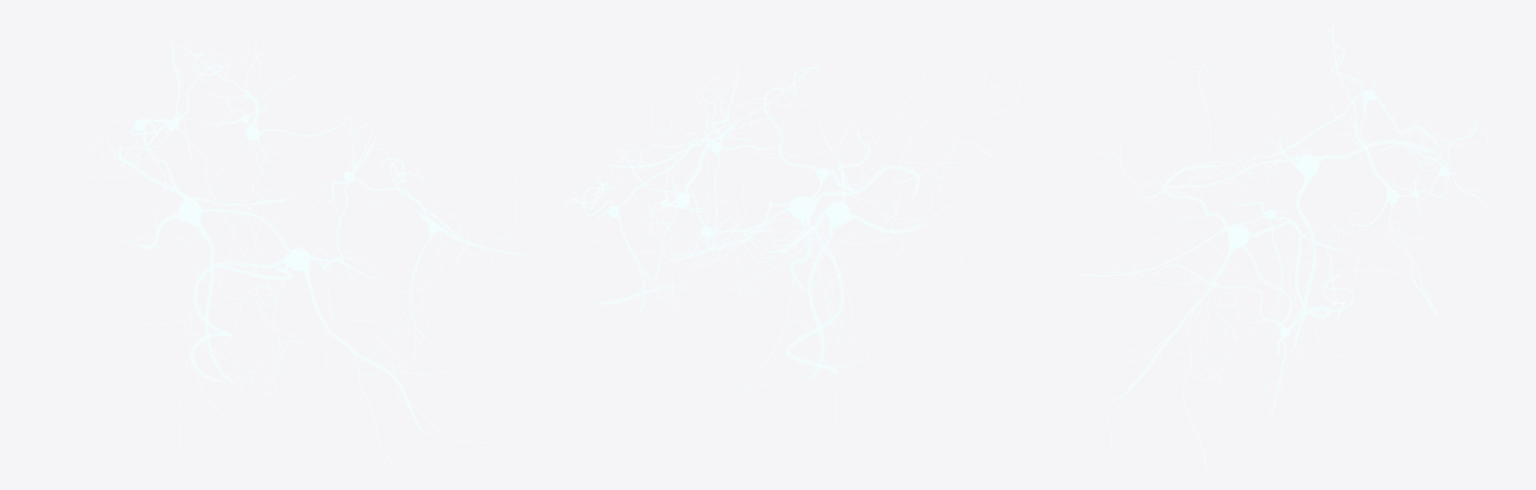
Rendered from neuron.glb.
3 renders of one model, left to right at view 1: azimuth 30°, elevation 25°; view 2: azimuth 150°, elevation 25°; view 3: azimuth 270°, elevation 25°, orthographic. The views are drawn at different scales.
Visible parts, largest first — view 1: Toon_geo_Toon_0.005, Toon_geo_Toon_0.001, Toon_geo_Toon_0.002, Toon_geo_Toon_0.006, Toon_geo_Toon_0.003, Toon_geo, Toon_geo_Toon_0.004; view 2: Toon_geo_Toon_0.005, Toon_geo_Toon_0.001, Toon_geo_Toon_0.002, Toon_geo_Toon_0.006, Toon_geo_Toon_0.003, Toon_geo_Toon_0.004, Toon_geo; view 3: Toon_geo_Toon_0.005, Toon_geo_Toon_0.001, Toon_geo_Toon_0.006, Toon_geo_Toon_0.002, Toon_geo_Toon_0.003, Toon_geo, Toon_geo_Toon_0.004.
Boxes of the visible parts, box(x1,y1,x2,y2) form: Toon_geo_Toon_0.005: box(83, 24, 532, 435); Toon_geo_Toon_0.001: box(18, 18, 523, 474); Toon_geo_Toon_0.002: box(164, 123, 528, 406); Toon_geo_Toon_0.006: box(131, 52, 472, 343); Toon_geo_Toon_0.003: box(134, 47, 365, 222); Toon_geo: box(81, 117, 517, 325); Toon_geo_Toon_0.004: box(206, 52, 303, 248); Toon_geo_Toon_0.005: box(612, 72, 926, 379); Toon_geo_Toon_0.001: box(598, 44, 1020, 473); Toon_geo_Toon_0.002: box(564, 43, 852, 322); Toon_geo_Toon_0.006: box(564, 67, 854, 313); Toon_geo_Toon_0.003: box(593, 63, 849, 256); Toon_geo_Toon_0.004: box(596, 93, 778, 308); Toon_geo: box(705, 14, 998, 268); Toon_geo_Toon_0.005: box(1074, 83, 1518, 400); Toon_geo_Toon_0.001: box(1063, 17, 1498, 474); Toon_geo_Toon_0.006: box(1148, 27, 1444, 424); Toon_geo_Toon_0.002: box(1086, 155, 1438, 382); Toon_geo_Toon_0.003: box(1299, 21, 1463, 258); Toon_geo: box(1052, 32, 1460, 280); Toon_geo_Toon_0.004: box(1272, 99, 1436, 318).
Size of the model in its own units: 14.87 by 15.03 by 15.92.
Materials: 4 (1 with a texture image).
